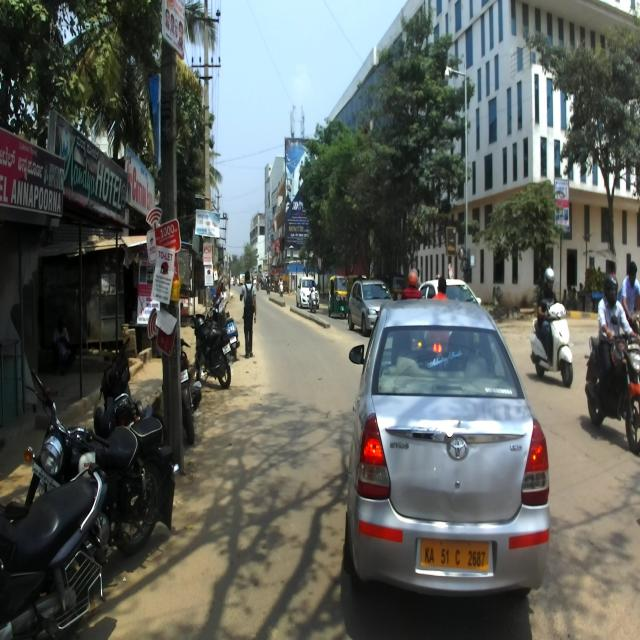car: (344, 284, 550, 599)
motorcycle: (23, 366, 179, 556), (0, 463, 110, 637), (584, 313, 640, 453), (99, 336, 142, 437)
scooter: (530, 300, 573, 388), (214, 291, 240, 362)
